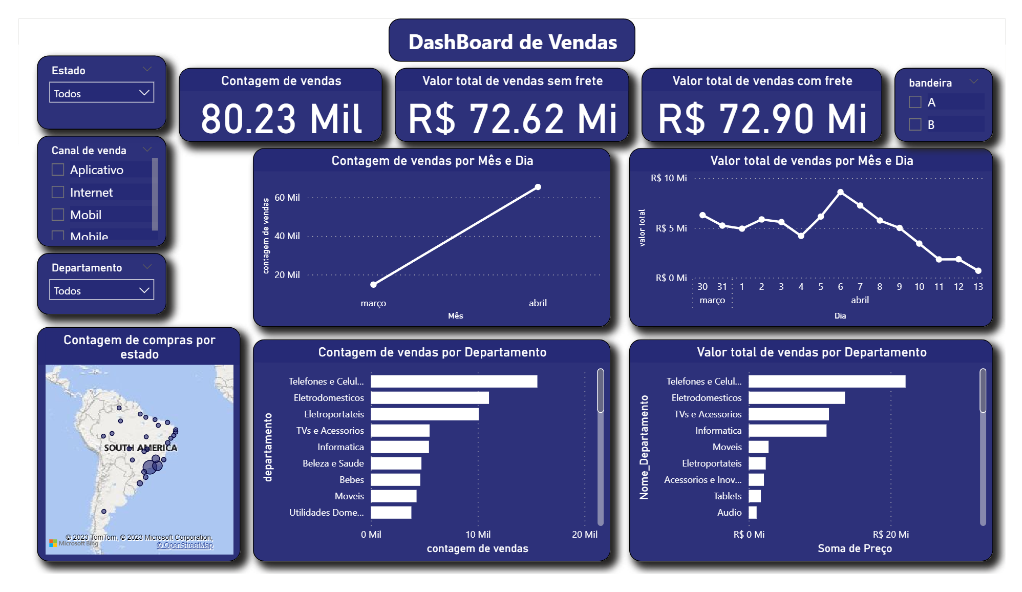

This screenshot's page, from the dashboard's own definition file:
{"tool":"powerbi","page":{"name":"Visão dos Clientes","canvas":[1280,720],"ordinal":0},"visuals":[{"type":"card","title":"Contagem de vendas","fields":{"Values":["CountNonNull(base compra.idcompra)"]},"box":[208,64,264,96],"z":0},{"type":"card","title":"Valor total de vendas sem frete","fields":{"Values":["Sum(base compra.Preço)"]},"box":[488,64,304,96],"z":1000},{"type":"card","title":"Valor total de vendas com frete","fields":{"Values":["Sum(base compra.Preço_com_frete)"]},"box":[808,64,312,96],"z":2000},{"type":"lineChart","title":"Contagem de vendas por Mês e Dia","fields":{"Category":["base compra.Data.Variation.Hierarquia de datas.Mês","base compra.Data.Variation.Hierarquia de datas.Dia"],"Y":["CountNonNull(base compra.idcompra)"]},"box":[304,168,464,232],"z":3000},{"type":"lineChart","title":"Valor total de vendas por Mês e Dia","fields":{"Y":["Sum(base compra.Preço)"],"Category":["base compra.Data.Variation.Hierarquia de datas.Mês","base compra.Data.Variation.Hierarquia de datas.Dia"]},"box":[792,168,472,232],"z":4000},{"type":"slicer","fields":{"Values":["base compra.bandeira"]},"box":[1136,64,128,96],"z":5000},{"type":"slicer","fields":{"Values":["base compra.estado"]},"box":[24,48,168,96],"z":6000},{"type":"slicer","fields":{"Values":["base compra.idcanalvenda"]},"box":[24,152,168,144],"z":7000},{"type":"slicer","fields":{"Values":["base compra.Nome_Departamento"]},"box":[24,304,168,80],"z":8000},{"type":"clusteredBarChart","title":"Contagem de vendas por Departamento","fields":{"Category":["base compra.Nome_Departamento"],"Y":["CountNonNull(base compra.idcompra)"]},"box":[304,416,464,288],"z":9000},{"type":"clusteredBarChart","title":"Valor total de vendas por Departamento","fields":{"Y":["Sum(base compra.Preço)"],"Category":["base compra.Nome_Departamento"]},"box":[792,416,472,288],"z":10000},{"type":"map","title":"Contagem de compras por estado","fields":{"Category":["base compra.estado"],"Size":["CountNonNull(base compra.idcompra)"]},"box":[24,400,264,304],"z":11000},{"type":"textbox","box":[480,0,320,56],"z":12000}]}

Visuals, with their boxes in screenshot pixels (x1, y1, x2, y2), scaled from the page's 1280x720 canvas onto the 1022x592 screenshot:
"Contagem de vendas" card: bbox(166, 53, 377, 132)
"Valor total de vendas sem frete" card: bbox(390, 53, 632, 132)
"Valor total de vendas com frete" card: bbox(645, 53, 894, 132)
"Contagem de vendas por Mês e Dia" lineChart: bbox(243, 138, 613, 329)
"Valor total de vendas por Mês e Dia" lineChart: bbox(632, 138, 1009, 329)
slicer - base compra.bandeira: bbox(907, 53, 1009, 132)
slicer - base compra.estado: bbox(19, 39, 153, 118)
slicer - base compra.idcanalvenda: bbox(19, 125, 153, 243)
slicer - base compra.Nome_Departamento: bbox(19, 250, 153, 316)
"Contagem de vendas por Departamento" clusteredBarChart: bbox(243, 342, 613, 579)
"Valor total de vendas por Departamento" clusteredBarChart: bbox(632, 342, 1009, 579)
"Contagem de compras por estado" map: bbox(19, 329, 230, 579)
textbox: bbox(383, 0, 639, 46)
